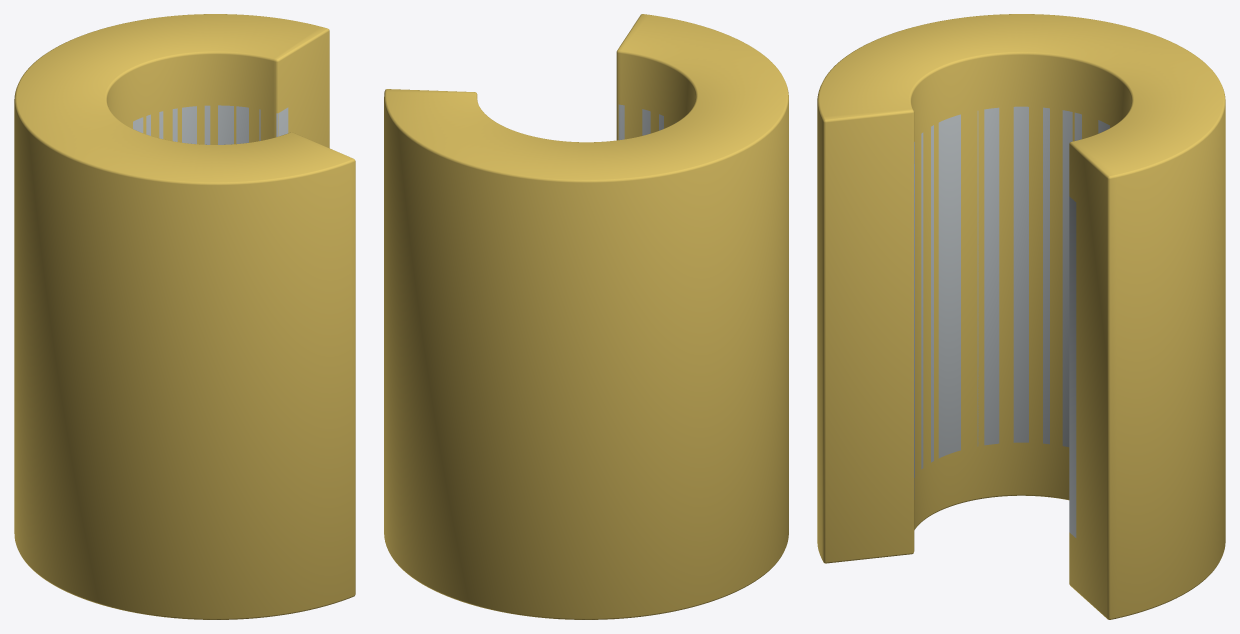
Rendered from flow-coupling.glb.
3 renders of one model, left to right at view 1: azimuth 30°, elevation 25°; view 2: azimuth 150°, elevation 25°; view 3: azimuth 270°, elevation 25°, orthographic.
Parts seen in each view (by area): view 1: Heavy wall flow coupling, Thread relief; view 2: Heavy wall flow coupling, Thread relief; view 3: Heavy wall flow coupling, Thread relief.
Boxes of the visible parts, x1=… form: Heavy wall flow coupling: x1=14, y1=14, x2=355, y2=619; Thread relief: x1=133, y1=105, x2=288, y2=144; Heavy wall flow coupling: x1=384, y1=14, x2=788, y2=619; Thread relief: x1=618, y1=104, x2=675, y2=139; Heavy wall flow coupling: x1=817, y1=14, x2=1225, y2=619; Thread relief: x1=914, y1=106, x2=1109, y2=537.
Size of the model in its own units: 1.9 by 2.4 by 2.
